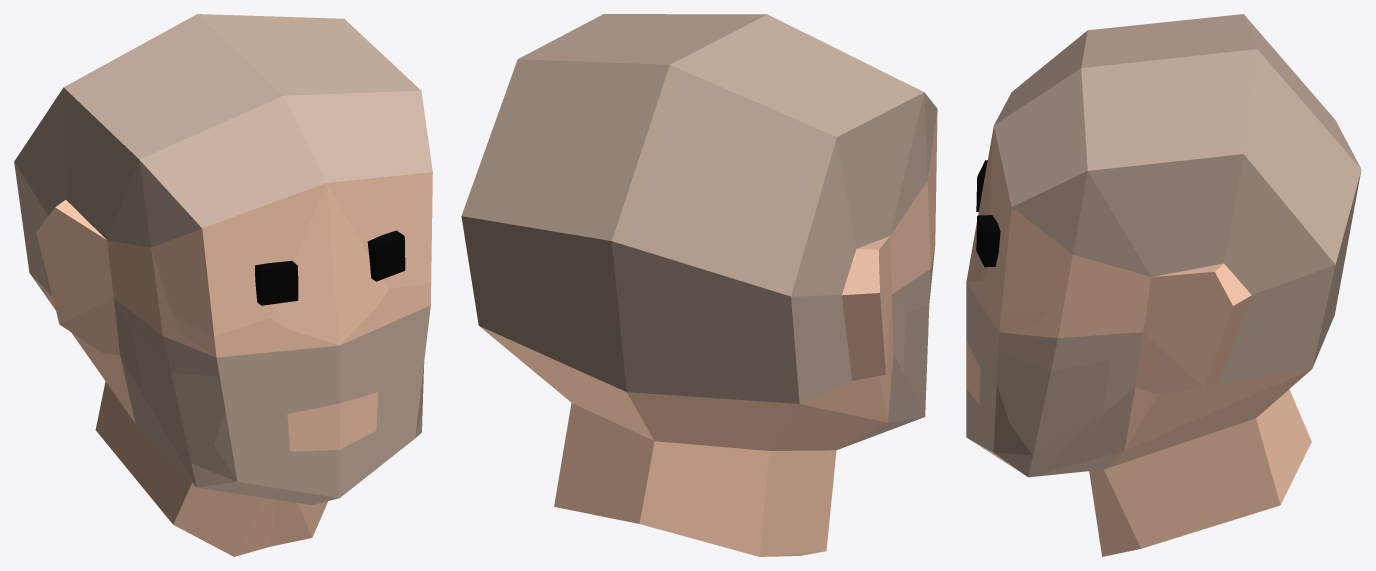
Rendered from Chr_Head_Male_21_Static.fbx.
The picture shows the model from 3 angles, left to right: view 1: azimuth 30°, elevation 25°; view 2: azimuth 150°, elevation 25°; view 3: azimuth 270°, elevation 25°; orthographic projection. The views are drawn at different scales.
Parts seen in each view (by area): view 1: Chr_Head_Male_21_Static; view 2: Chr_Head_Male_21_Static; view 3: Chr_Head_Male_21_Static.
Part boxes in pixels (x1,y1,x2,y2): Chr_Head_Male_21_Static: (14, 14, 432, 556); Chr_Head_Male_21_Static: (461, 14, 937, 556); Chr_Head_Male_21_Static: (966, 14, 1361, 556).
Bounding box in the file's own units: 0.2661 × 0.3523 × 0.2574.
